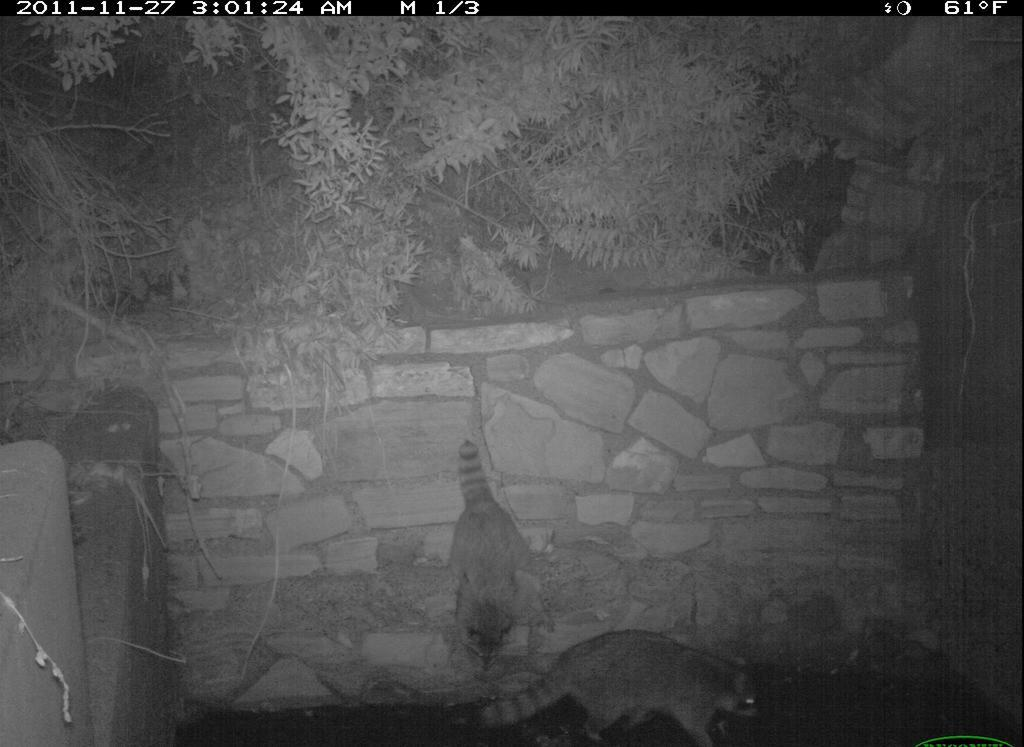raccoon: (472, 623, 770, 747), (440, 436, 558, 670)
